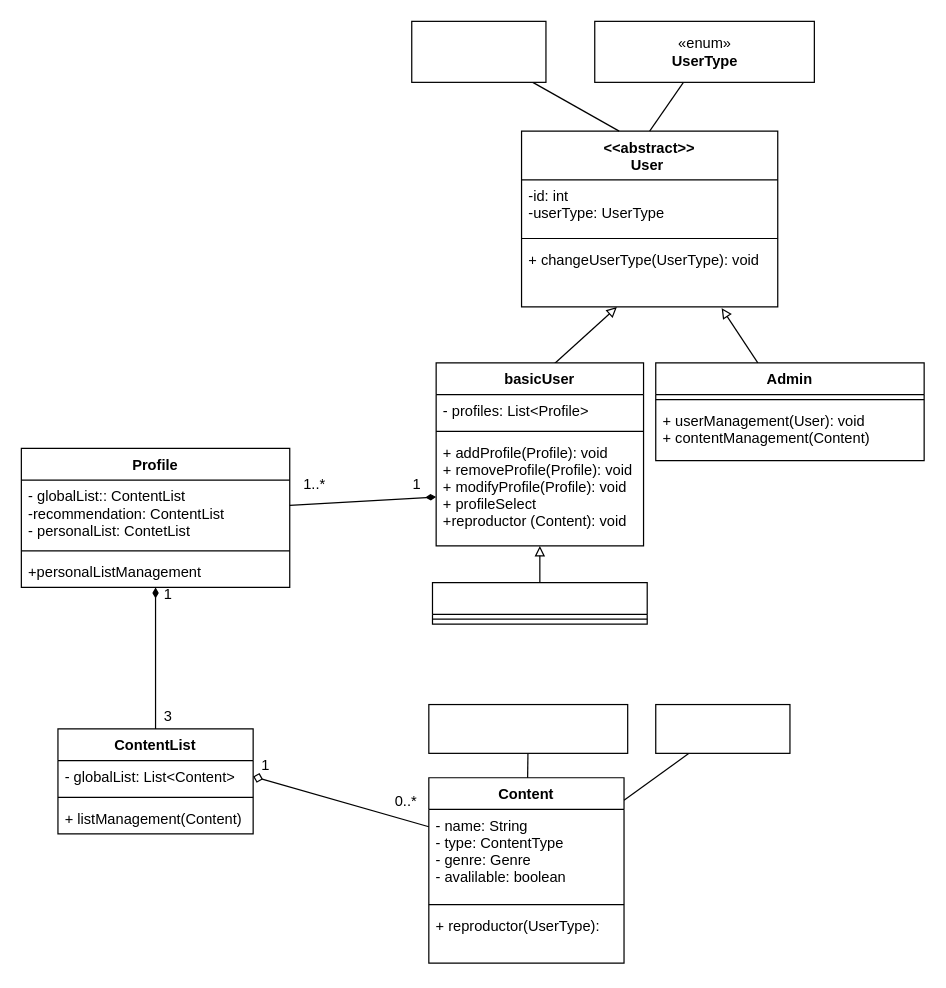
The diagram is 946 pixels wide and 988 high, and some of its shapes have lost their labels. Each missing label, with the centre of its shape:
premiumUser: the point at 539,602
«enum» ContentType: the point at 528,728
«enum» Genre: the point at 722,728
«interface» Reproductor: the point at 478,51
